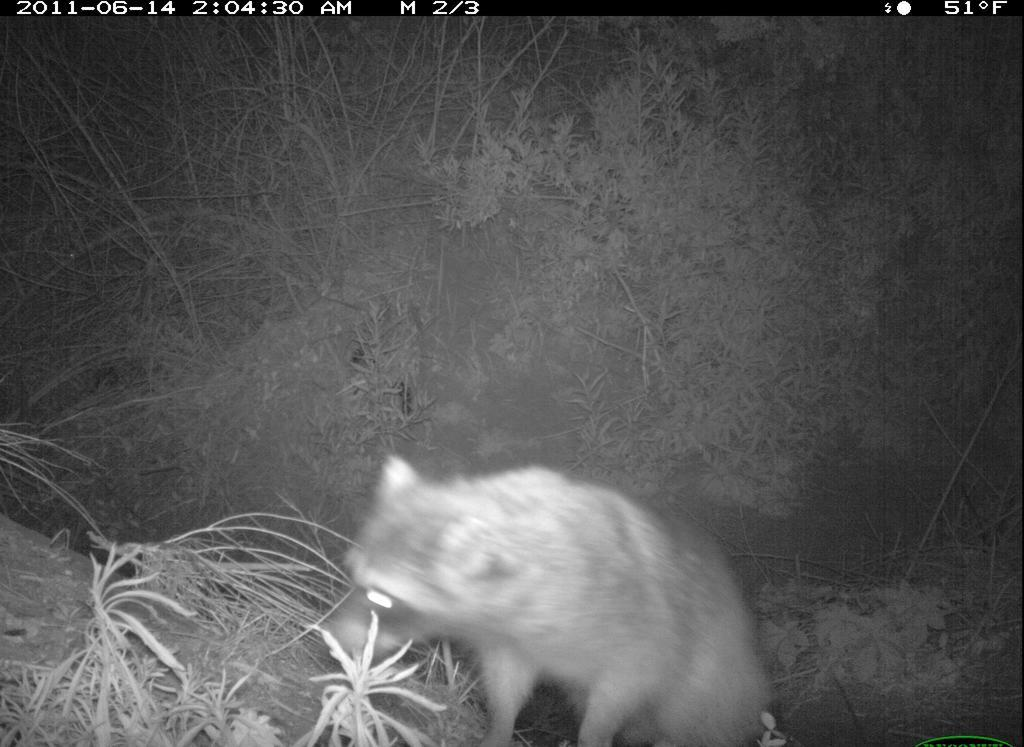raccoon: (323, 454, 792, 747)
